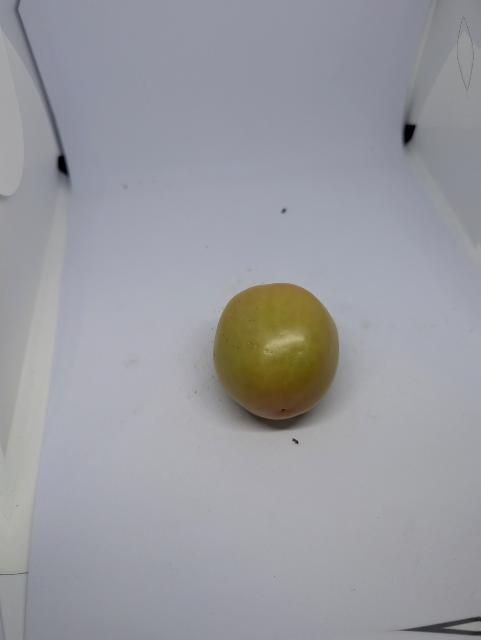breaker: (210, 282, 344, 422)
